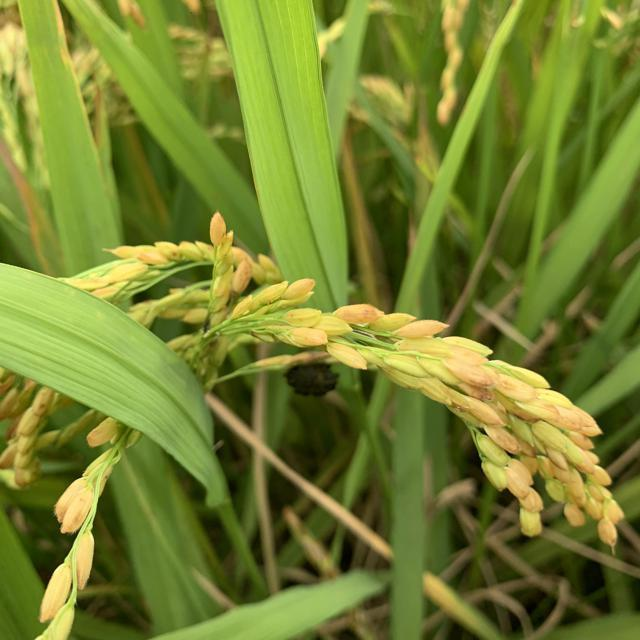Leaf_Scald: (283, 352, 345, 400)
